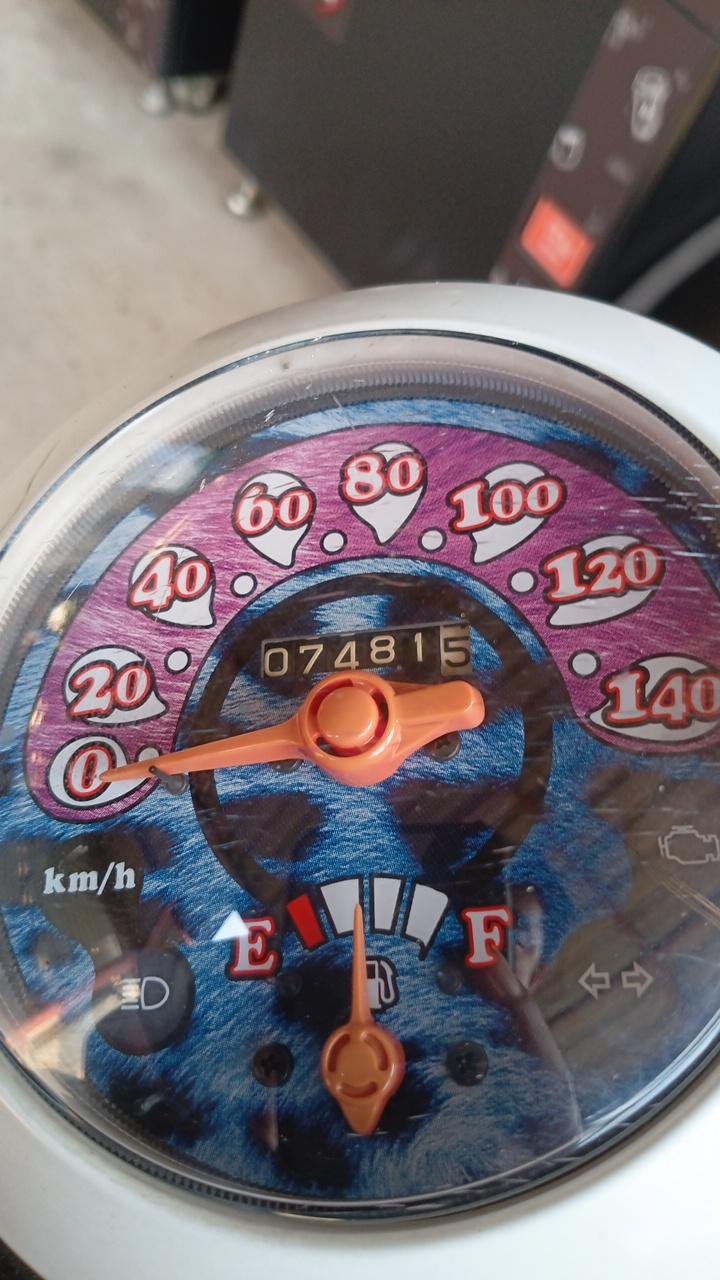0: (263, 646, 289, 676)
1: (413, 632, 426, 663)
4: (334, 640, 360, 672)
5: (442, 633, 471, 669)
7: (298, 642, 324, 676)
8: (368, 635, 396, 666)
odometer: (258, 617, 476, 686)
